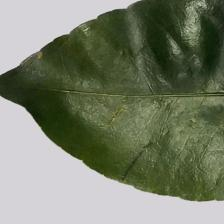healthy: (46, 28, 220, 193)
